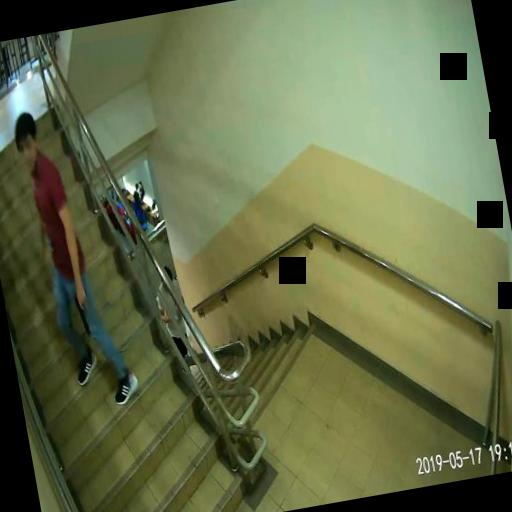Handgun: (71, 286, 92, 335)
